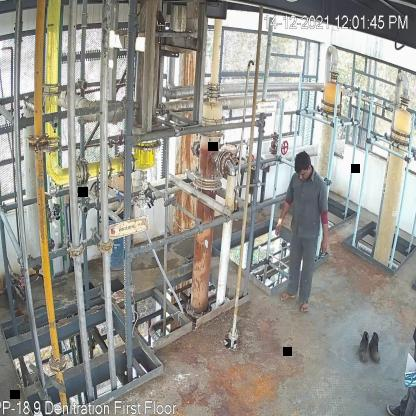no_shoes: (298, 300, 312, 314), (278, 291, 296, 301)
shoes: (357, 330, 373, 364), (369, 332, 382, 362)
